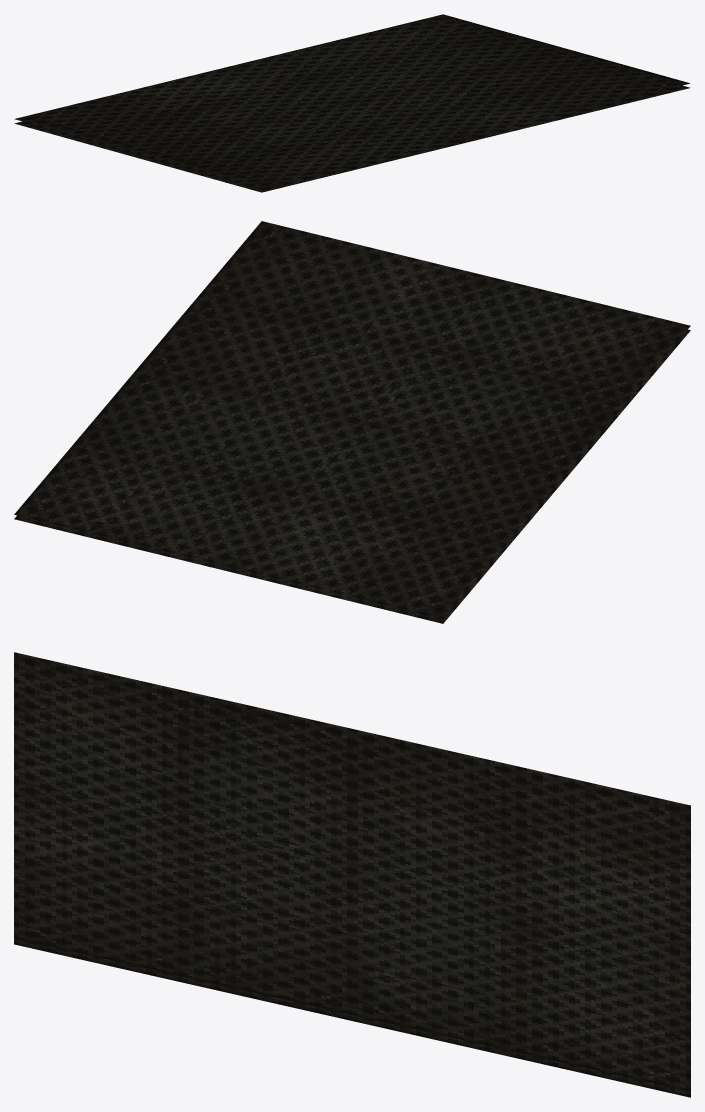
The model's file is platform_1_1.glb.
The picture shows the model from 3 angles, top to bottom: view 1: azimuth 30°, elevation 25°; view 2: azimuth 150°, elevation 25°; view 3: azimuth 270°, elevation 25°; orthographic projection. The views are drawn at different scales.
Visible parts, largest first — view 1: platform_1_1; view 2: platform_1_1; view 3: platform_1_1.
Part boxes in pixels (<box>): platform_1_1: <box>14,14,690,192</box>; platform_1_1: <box>14,221,690,623</box>; platform_1_1: <box>14,652,690,1097</box>.
Bounding box in the file's own units: 2 × 0.52 × 2.
1 material, 1 textured.
